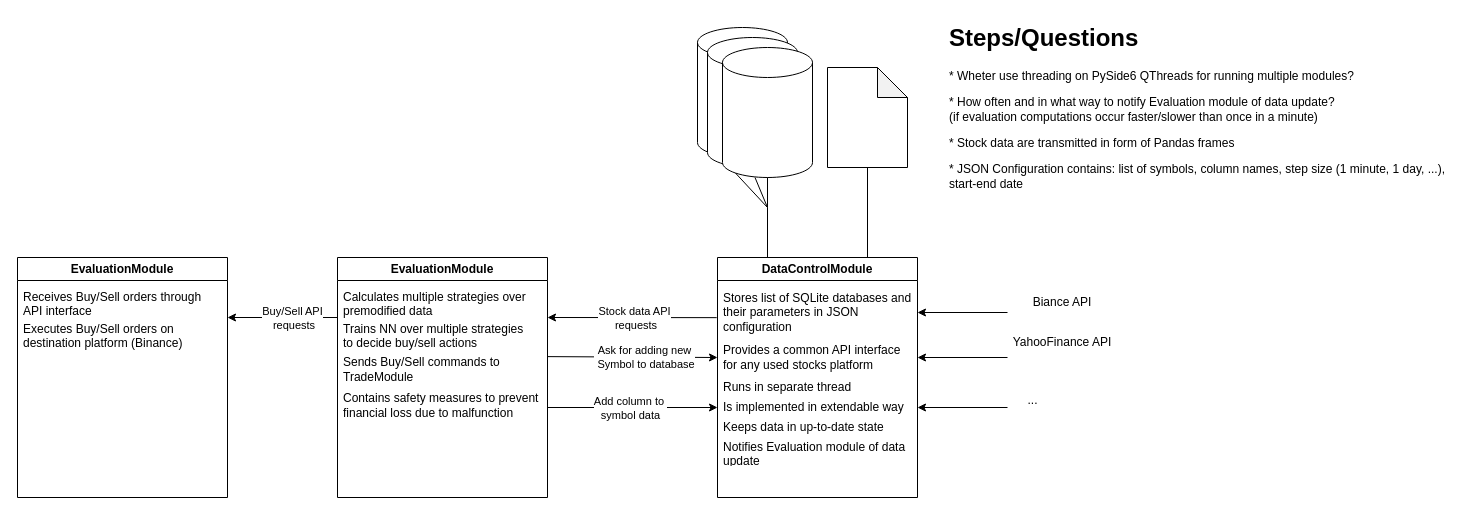
Some shapes in this 1465 by 515 pixel diagram are drawn without their labels. The centre of each missing label's shape, as x and y in pixels:
"BTCUSDT" belongs at (x=767, y=112).
"JSON Configuration" belongs at (x=867, y=117).
